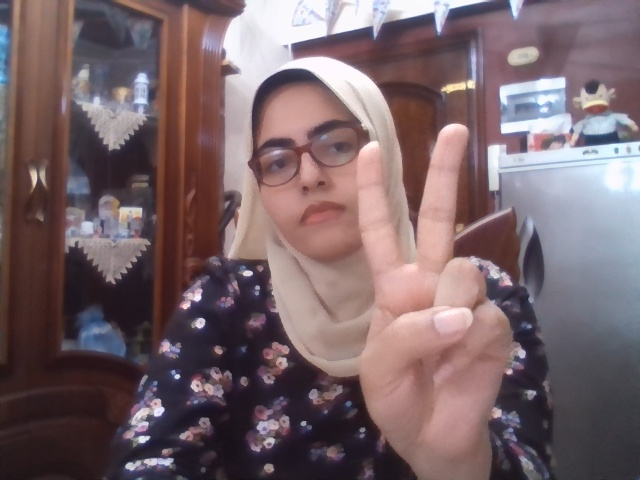V: (356, 123, 511, 461)
